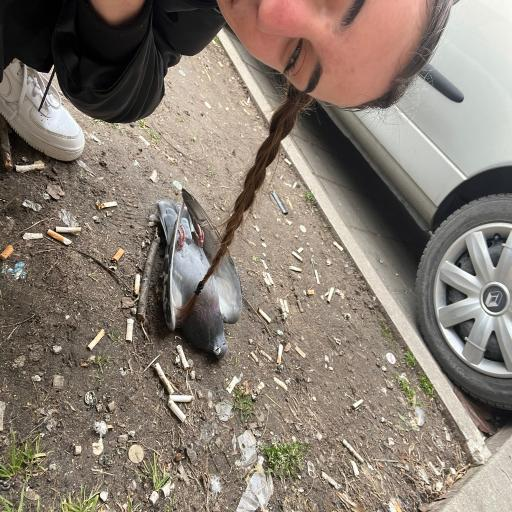masa: (217, 0, 447, 109)
